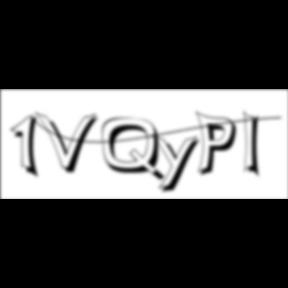1: (10, 114, 46, 182)
P: (196, 110, 242, 180)
Q: (102, 117, 168, 184)
V: (36, 110, 102, 176)
l: (243, 108, 266, 182)
y: (151, 132, 205, 196)
